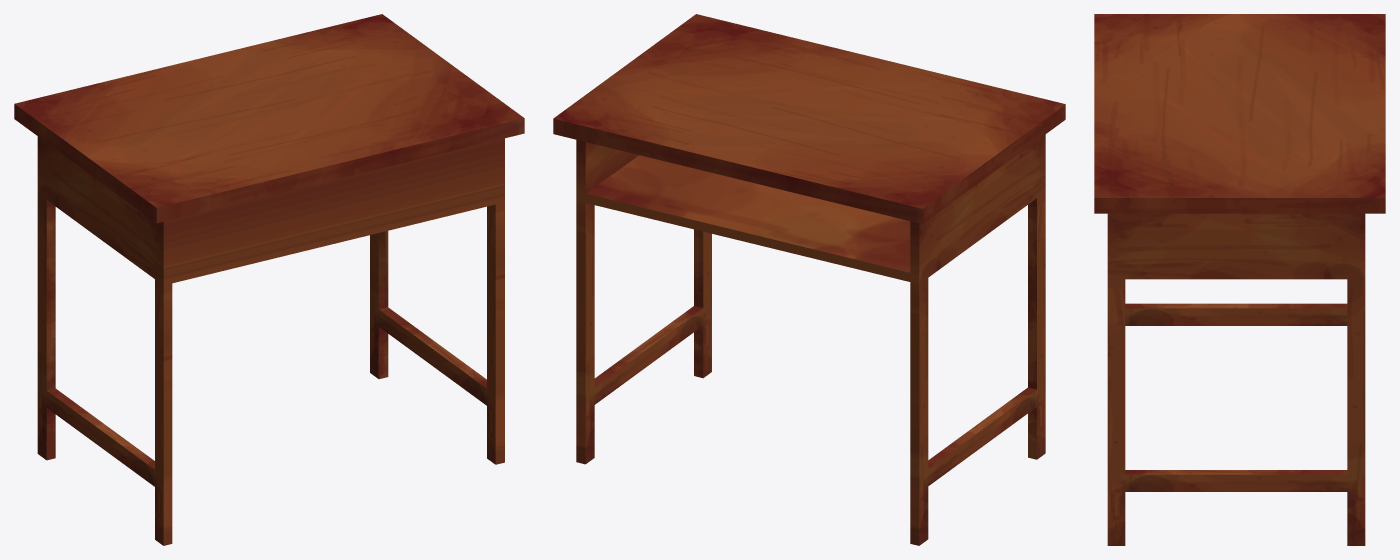
The model's file is desk.FBX.
The picture shows the model from 3 angles, left to right: view 1: azimuth 30°, elevation 25°; view 2: azimuth 150°, elevation 25°; view 3: azimuth 270°, elevation 25°; orthographic projection. The views are drawn at different scales.
Visible parts, largest first — view 1: desk001, desk002; view 2: desk001, desk002; view 3: desk001, desk002.
Boxes of the visible parts, <box> form: desk001: <box>14,14,524,222</box>; desk002: <box>37,136,504,545</box>; desk001: <box>553,14,1065,224</box>; desk002: <box>576,134,1045,545</box>; desk001: <box>1094,14,1385,213</box>; desk002: <box>1107,213,1365,545</box>.
Bounding box in the file's own units: 1.35 × 0.9079 × 1.22.
